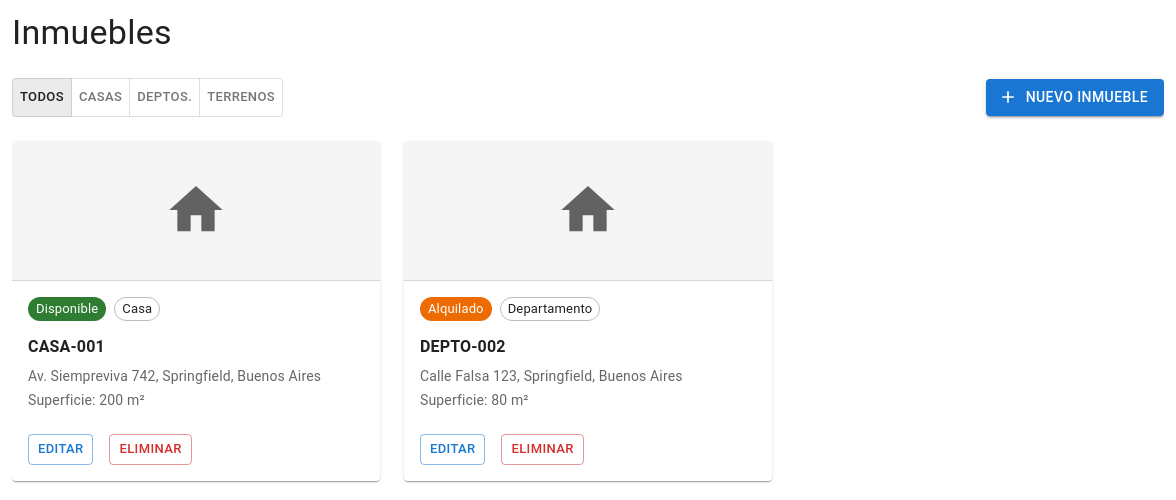
Test case: InmueblesPage Component › filters results according to type toggle selection
Expected: the heading "CASA-001" is shown, [28,337,105,356]
Expected: the heading "DEPTO-002" is shown, [420,337,506,356]
Note: Toggle to only Casas
Click the button "Casas": {"x": 101, "y": 97} [71,78,130,117]
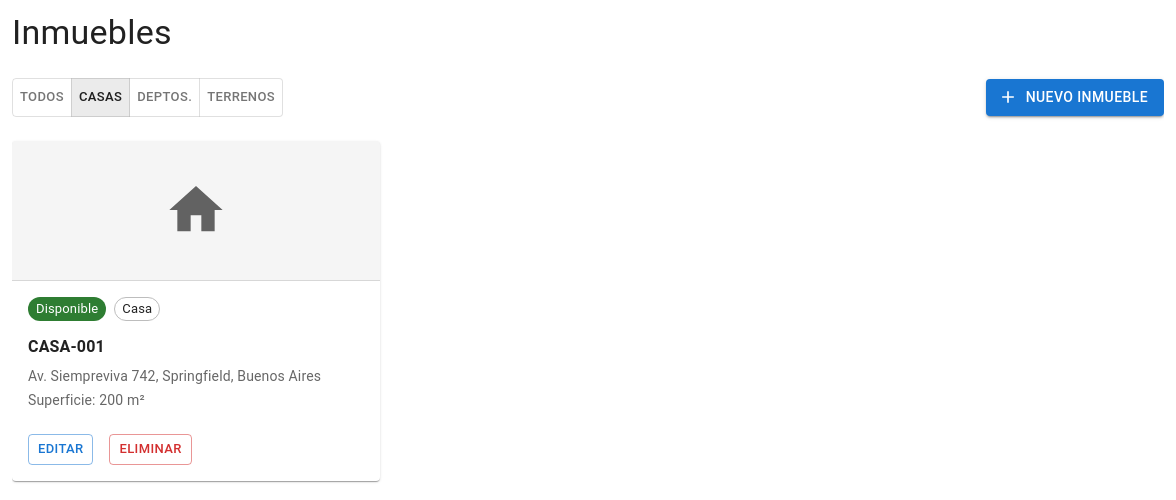
Expected: the heading "CASA-001" is shown, [28,337,105,356]
Expected: the heading "DEPTO-002" is gone
